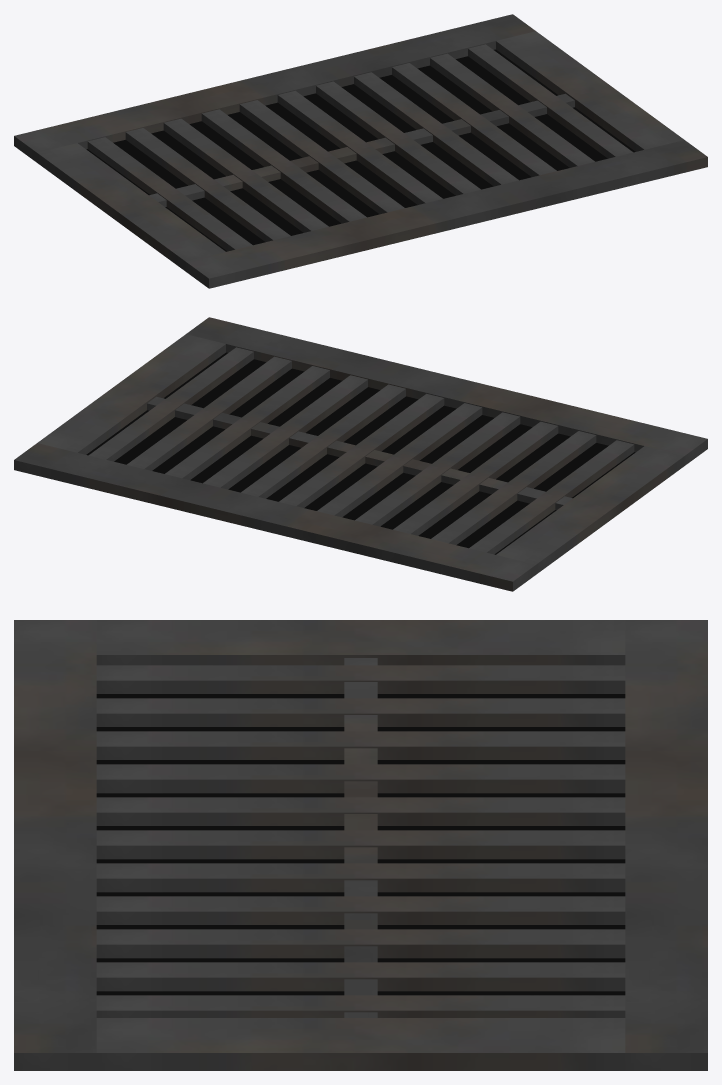
File: StormDrainGrate.obj
3 views of the same model, one above another, from view 1: azimuth 30°, elevation 25°; view 2: azimuth 150°, elevation 25°; view 3: azimuth 270°, elevation 25° (orthographic). The views are drawn at different scales.
Parts seen in each view (by area): view 1: CastIron, Void; view 2: CastIron, Void; view 3: CastIron, Void.
Part boxes in pixels (x1=…): CastIron: x1=14, y1=14, x2=707, y2=288; Void: x1=86, y1=49, x2=635, y2=251; CastIron: x1=14, y1=317, x2=707, y2=591; Void: x1=86, y1=352, x2=635, y2=554; CastIron: x1=14, y1=620, x2=707, y2=1070; Void: x1=96, y1=694, x2=625, y2=995.
Size of the model in its own units: 0.62 by 0.012 by 0.42.
Materials: 2 (1 with a texture image).
